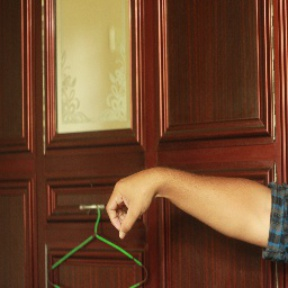O: (103, 165, 161, 240)
